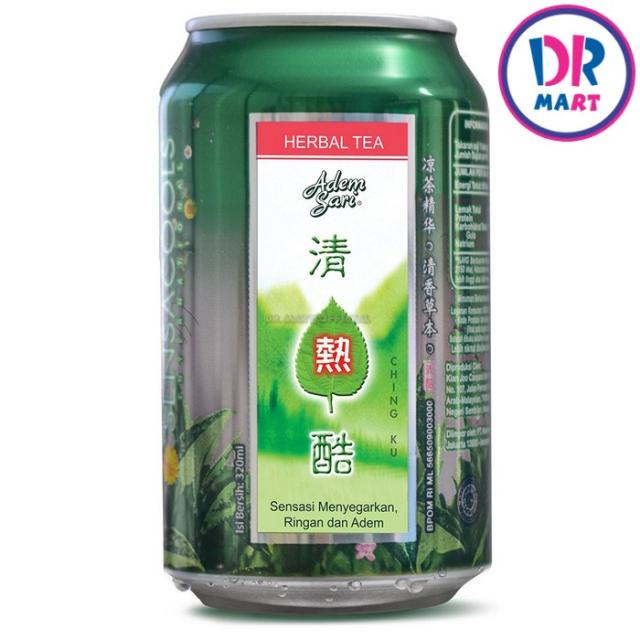ademsarikaleng: (157, 12, 494, 614)
